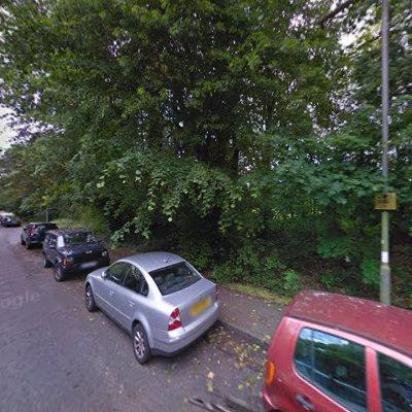stationary-car-onstreet: (258, 290, 410, 410), (83, 250, 223, 364), (40, 227, 112, 283), (20, 221, 58, 248), (0, 211, 20, 227)
